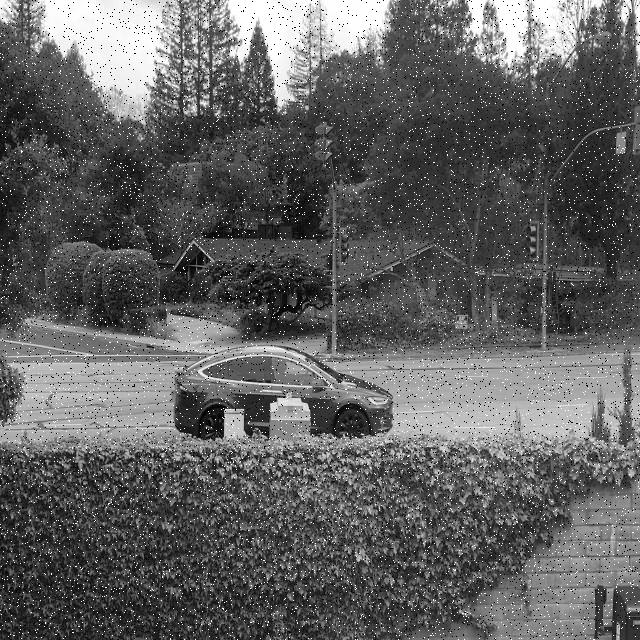SUV: (170, 345, 393, 440)
